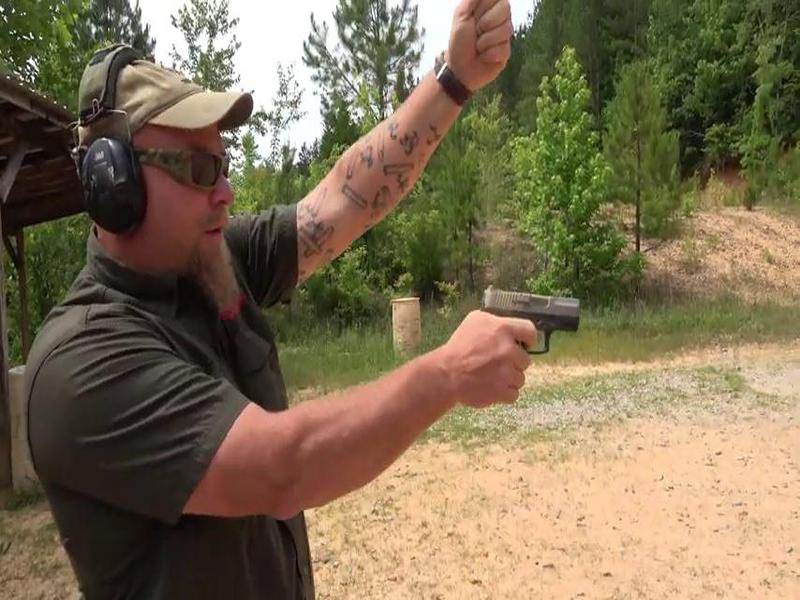Pistola: (476, 274, 588, 358)
